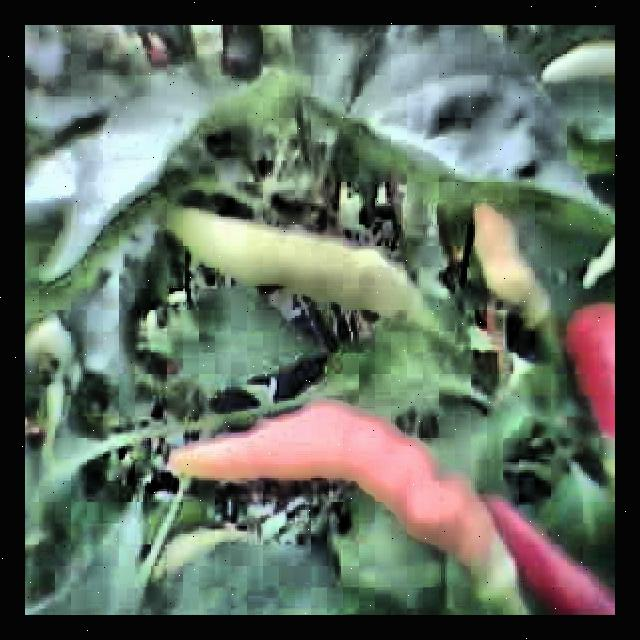Cabai: (207, 393, 497, 529), (491, 513, 615, 615), (590, 308, 615, 457)
